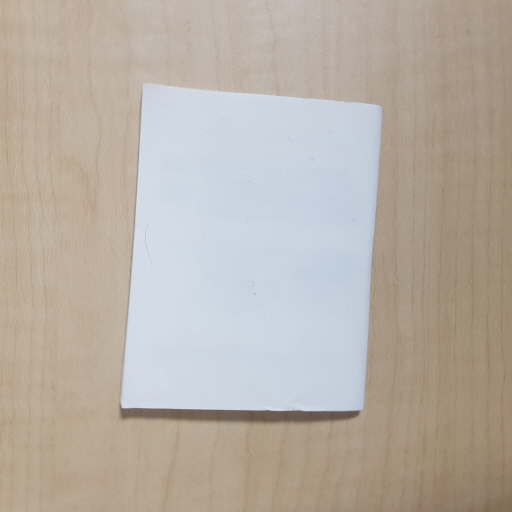Paper_0: (113, 65, 394, 433)
